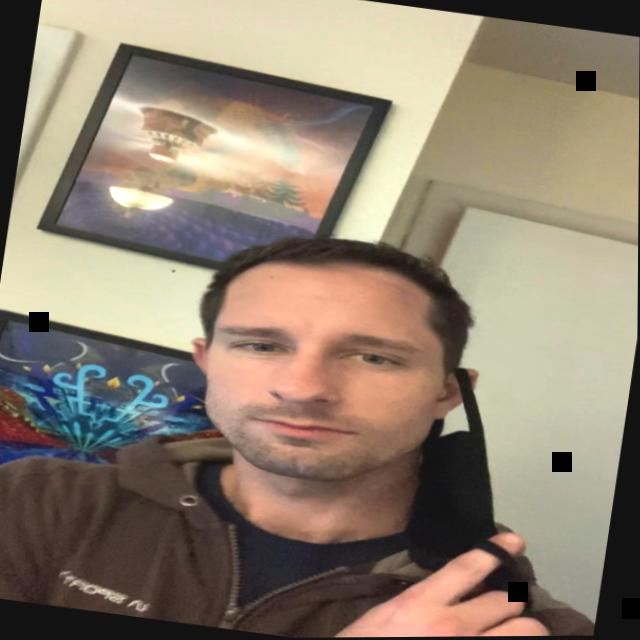NO-Mask: (157, 232, 496, 528)
